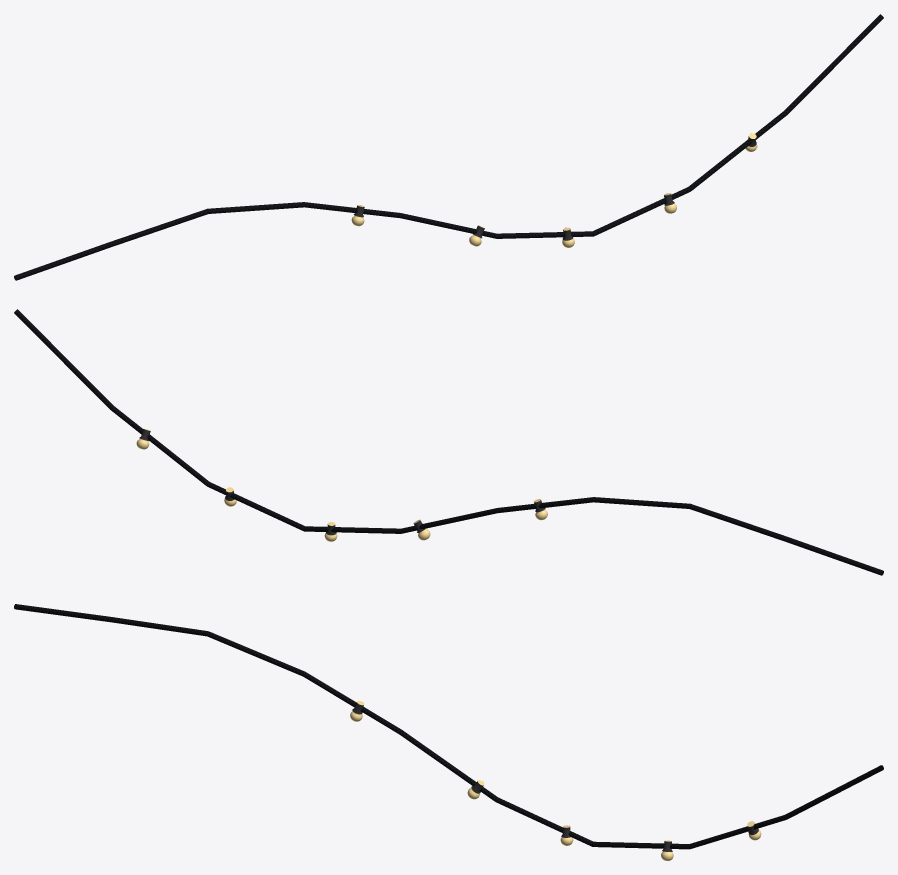
The model's file is Bulb Wire01.fbx.
3 views of the same model, one above another, from view 1: azimuth 30°, elevation 25°; view 2: azimuth 150°, elevation 25°; view 3: azimuth 330°, elevation 25° (orthographic).
Parts seen in each view (by area): view 1: Wire; view 2: Wire; view 3: Wire.
Boxes of the visible parts, x1=… form: Wire: x1=14, y1=14, x2=883, y2=280; Wire: x1=14, y1=309, x2=883, y2=575; Wire: x1=14, y1=604, x2=883, y2=849.
Size of the model in its own units: 387 by 66.2 by 7.67.
Materials: 1 (1 with a texture image).
